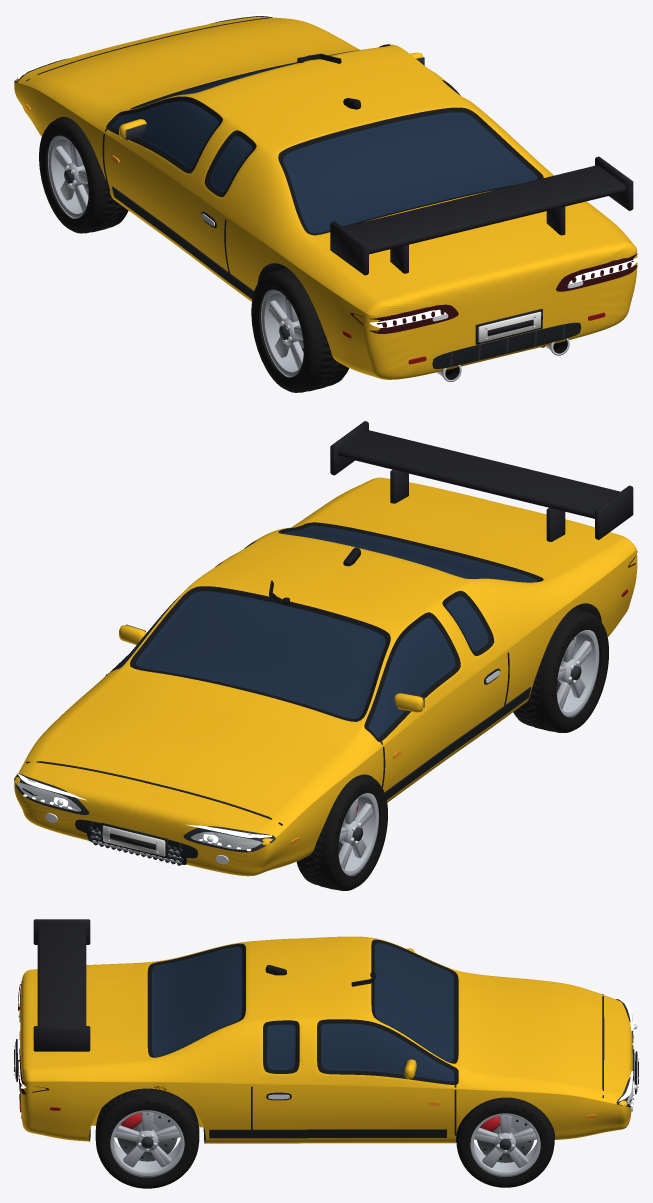
Rendered from bolt.glb.
The picture shows the model from 3 angles, top to bottom: view 1: azimuth 30°, elevation 25°; view 2: azimuth 150°, elevation 25°; view 3: azimuth 270°, elevation 25°; orthographic projection. The views are drawn at different scales.
Parts seen in each view (by area): view 1: Body, Wheel_RL, Wheel_FL; view 2: Body, Wheel_RL, Wheel_FL; view 3: Body, Wheel_RR, Wheel_FR.
Boxes of the visible parts, x1,y1,x2,y2 form: Body: (14,14,638,381); Wheel_RL: (251,267,349,392); Wheel_FL: (39,117,128,233); Body: (14,421,638,876); Wheel_RL: (513,608,608,732); Wheel_FL: (296,774,387,890); Body: (14,919,638,1143); Wheel_RR: (95,1088,199,1188); Wheel_FR: (456,1097,554,1187).
Size of what is drawn, in the model's own units: 2.13 by 1.35 by 4.61.
